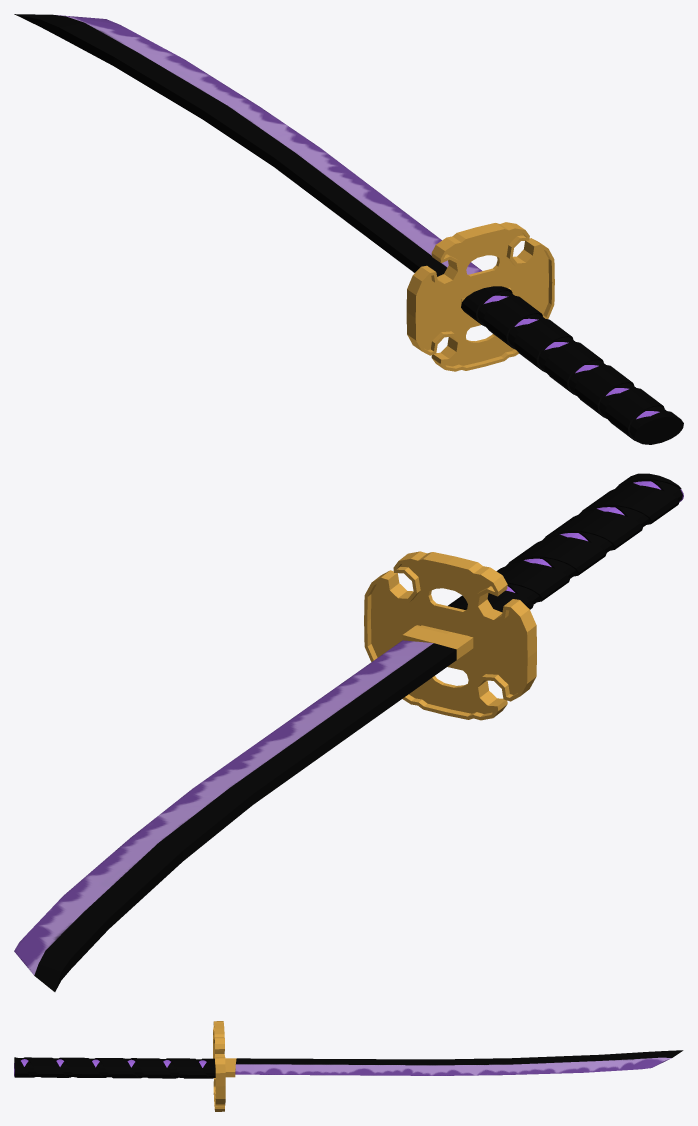
Rendered from Katana.fbx.
3 renders of one model, top to bottom at view 1: azimuth 30°, elevation 25°; view 2: azimuth 150°, elevation 25°; view 3: azimuth 270°, elevation 25°, orthographic. The views are drawn at different scales.
Visible parts, largest first — view 1: Cylinder; view 2: Cylinder; view 3: Cylinder.
Boxes of the visible parts, x1,y1,x2,y2 form: Cylinder: (14,14,683,444); Cylinder: (14,473,683,991); Cylinder: (14,1021,683,1111).
Bounding box in the file's own units: 46.32 × 41.5 × 332.
